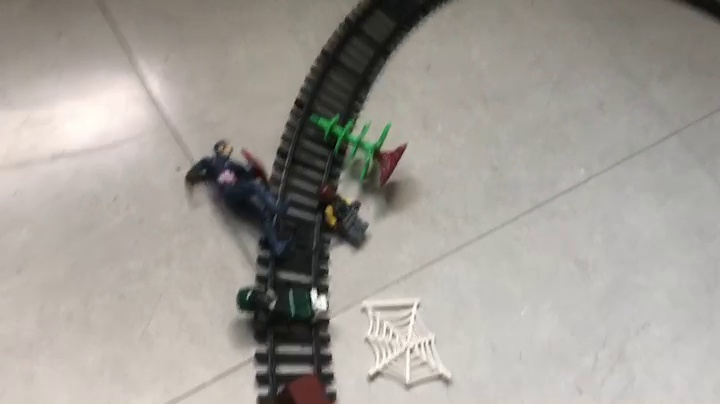people: (185, 139, 306, 262), (236, 285, 333, 332), (314, 184, 372, 248)
tree: (309, 111, 410, 193)
web: (359, 300, 452, 386)
